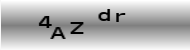4: (38, 15, 53, 29)
A: (49, 26, 66, 41)
Z: (69, 20, 84, 36)
d: (97, 7, 111, 22)
r: (115, 12, 126, 22)
